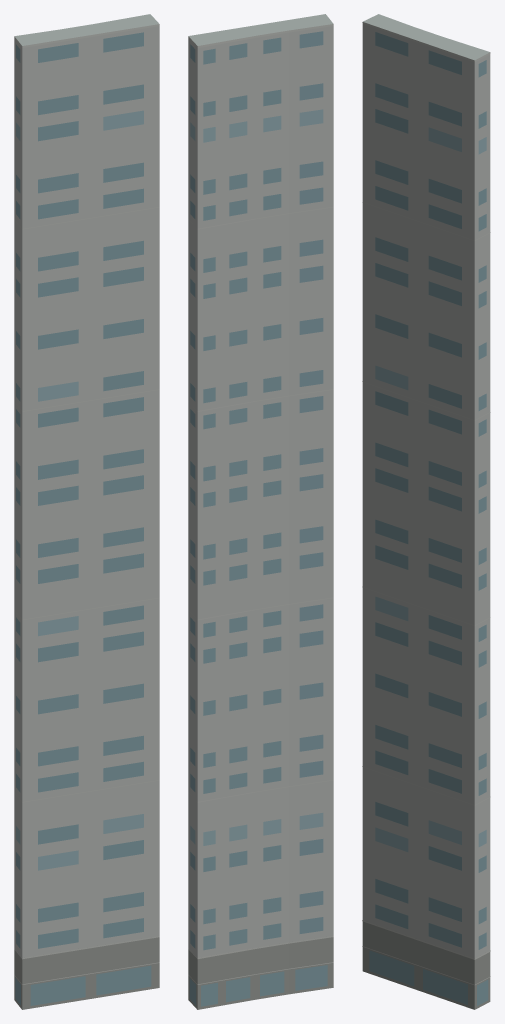
File: survey-upis-32960711.glb
3 renders of one model, left to right at view 1: azimuth 30°, elevation 25°; view 2: azimuth 210°, elevation 25°; view 3: azimuth 330°, elevation 25°, orthographic.
Visible parts, largest first — view 1: survey-upis-32960711.tmp; view 2: survey-upis-32960711.tmp; view 3: survey-upis-32960711.tmp.
Boxes of the visible parts, box(x1,y1,x2,y2) form: survey-upis-32960711.tmp: box(14, 14, 159, 1009); survey-upis-32960711.tmp: box(188, 14, 333, 1009); survey-upis-32960711.tmp: box(362, 14, 490, 1009).
Size of the model in its own units: 15.83 by 113 by 5.1.
